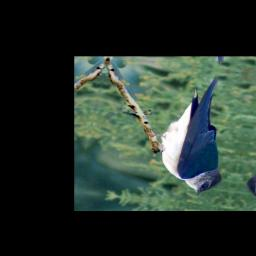Swallow: (134, 70, 247, 201)
